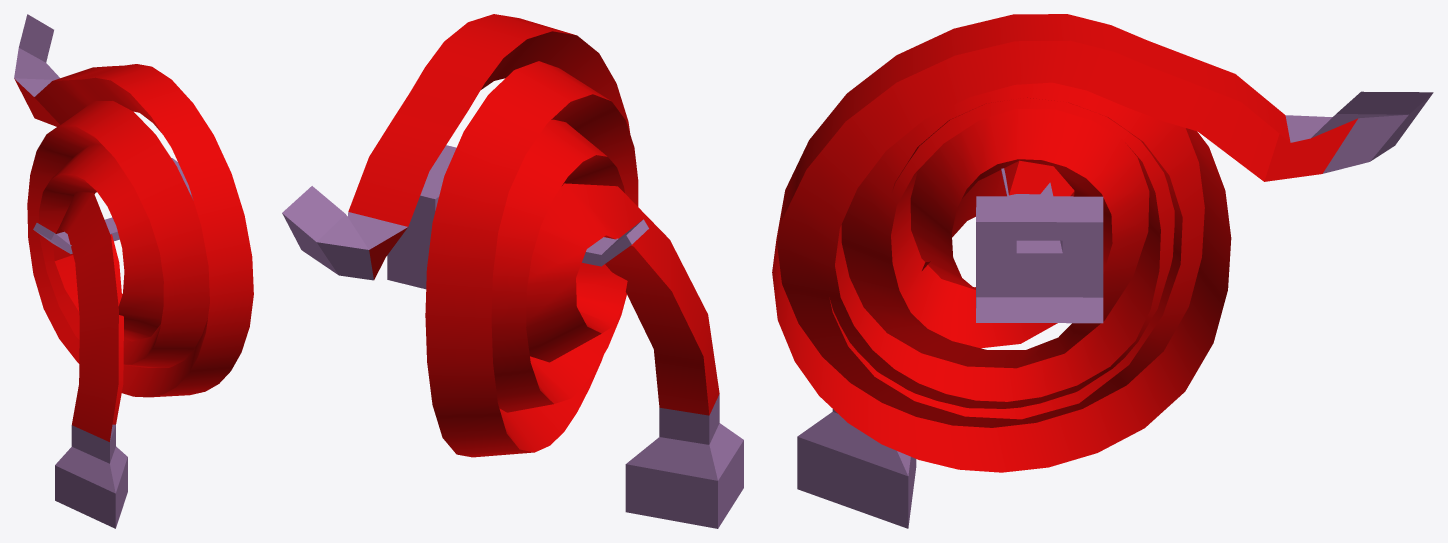
The model's file is m_hose.fbx.
The picture shows the model from 3 angles, left to right: view 1: azimuth 30°, elevation 25°; view 2: azimuth 150°, elevation 25°; view 3: azimuth 270°, elevation 25°; orthographic projection. The views are drawn at different scales.
Parts seen in each view (by area): view 1: pCube353; view 2: pCube353; view 3: pCube353.
Boxes of the visible parts, <box> form: pCube353: <box>14,14,253,528</box>; pCube353: <box>282,14,743,528</box>; pCube353: <box>772,14,1433,528</box>.
Size of the model in its own units: 87.42 by 170 by 187.
